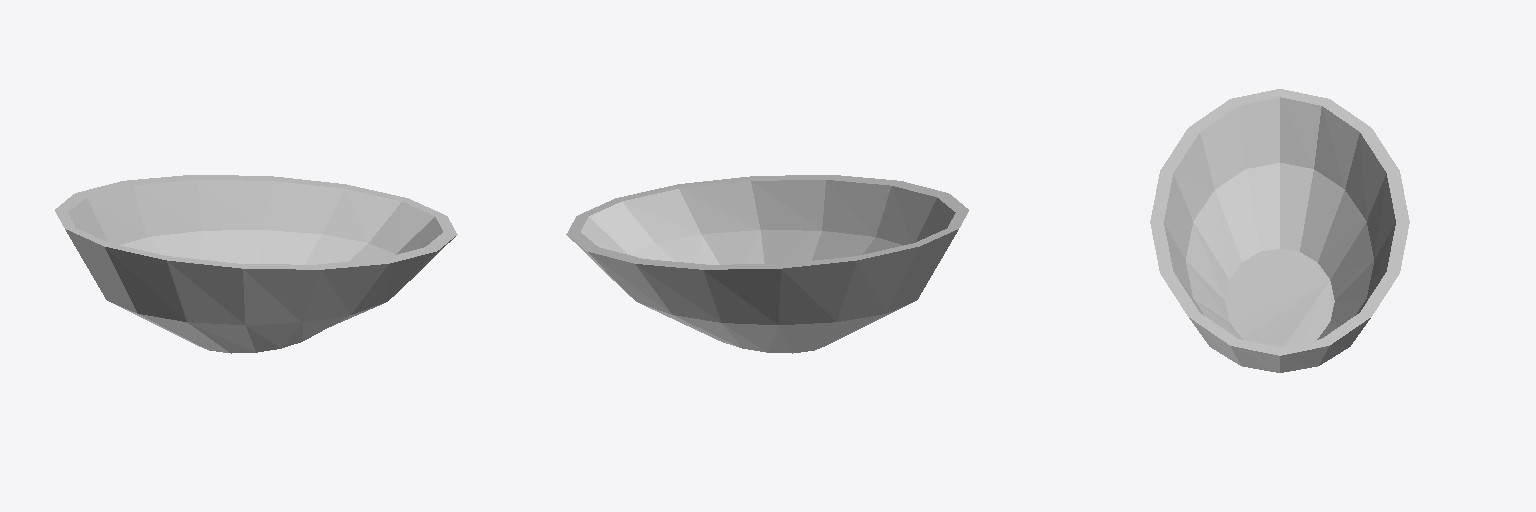
File: Fruit_Plate.obj
3 renders of one model, left to right at view 1: azimuth 30°, elevation 25°; view 2: azimuth 150°, elevation 25°; view 3: azimuth 270°, elevation 25°, orthographic.
Visible parts, largest first — view 1: Fruit_Plate; view 2: Fruit_Plate; view 3: Fruit_Plate.
Part boxes in pixels (left/top/right/bottom): Fruit_Plate: left=55, top=175, right=457, bottom=353; Fruit_Plate: left=566, top=175, right=968, bottom=353; Fruit_Plate: left=1150, top=89, right=1409, bottom=372.
Size of the model in its own units: 0.5142 by 0.1898 by 0.3023.